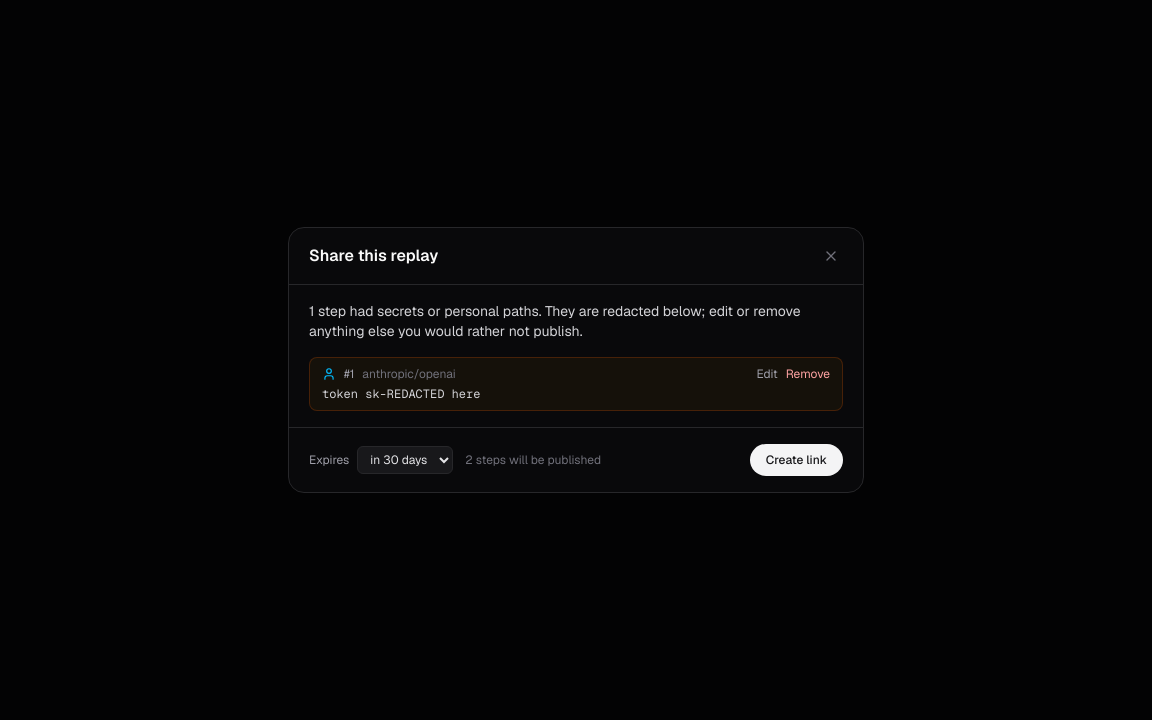
Test case: ShareDialog › shows the server error when sharing is not configured
The image size is (1152, 720).
Click the button "Create link" at (796, 460), box x1=750 y1=444 x2=843 y2=476
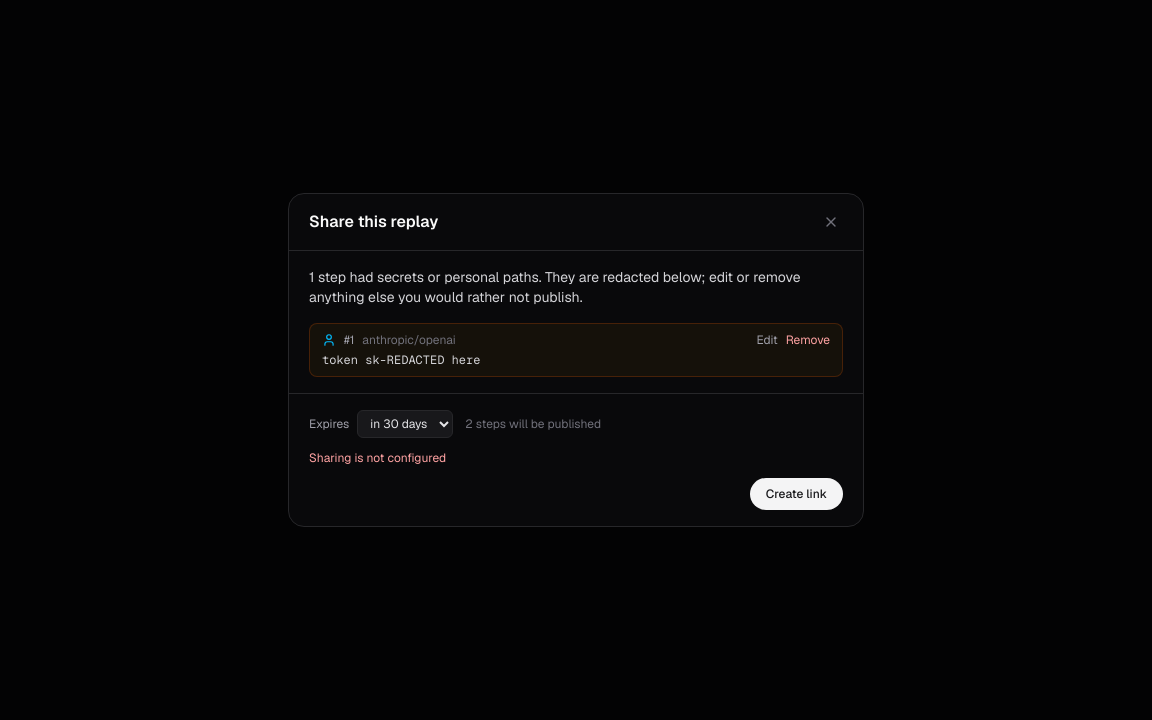
Check: the text "Sharing is not configured" is shown, box x1=309 y1=450 x2=446 y2=466
